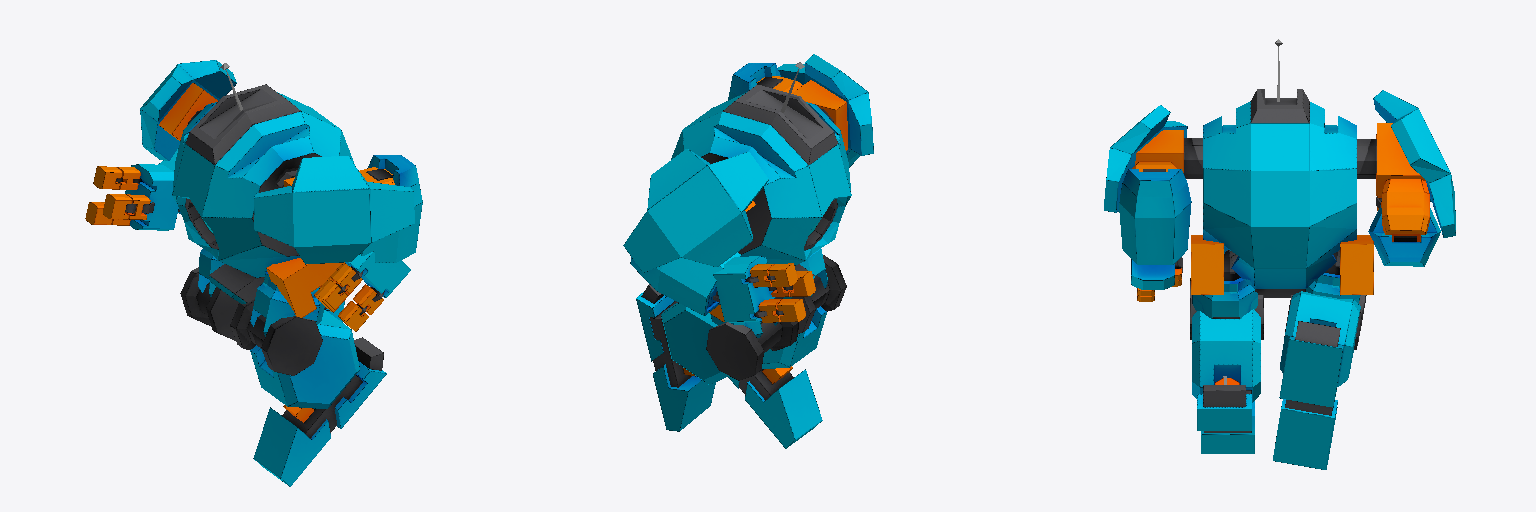
3 renders of one model, left to right at view 1: azimuth 30°, elevation 25°; view 2: azimuth 150°, elevation 25°; view 3: azimuth 270°, elevation 25°, orthographic.
Visible parts, largest first — view 1: Plane001, Object006, Object013, Object014, Object002, Object004, Object008, Object007, Object010, Object012, Object009; view 2: Plane001, Object002, Object010, Object004, Object006, Object011, Object014, Object013, Object003, Object007; view 3: Plane001, Object002, Object011, Object007, Object013, Object006, Object014, Object010, Object003, Object012, Object008, Object009 (+2 smaller).
Part boxes in pixels (x1,y1,x2,y2): Plane001: (172, 84, 353, 317); Object006: (254, 156, 414, 264); Object013: (230, 299, 359, 408); Object014: (253, 337, 386, 486); Object002: (140, 60, 236, 160); Object004: (85, 164, 179, 230); Object008: (314, 251, 410, 331); Object007: (361, 155, 422, 262); Object010: (180, 267, 238, 340); Object012: (250, 272, 324, 336); Object009: (198, 249, 223, 296); Plane001: (671, 84, 851, 321); Object002: (623, 149, 768, 272); Object010: (661, 303, 798, 384); Object004: (713, 256, 815, 322); Object006: (757, 54, 873, 167); Object011: (636, 284, 715, 431); Object014: (728, 366, 822, 448); Object013: (762, 255, 846, 368); Object003: (630, 252, 740, 315); Object007: (728, 63, 782, 100); Plane001: (1191, 89, 1373, 297); Object002: (1373, 90, 1455, 241); Object011: (1273, 321, 1343, 469); Object007: (1119, 169, 1191, 264); Object013: (1190, 278, 1263, 402); Object006: (1104, 105, 1187, 212); Object014: (1197, 378, 1254, 453); Object010: (1280, 291, 1366, 386); Object003: (1368, 205, 1440, 266); Object012: (1192, 250, 1257, 318); Object008: (1131, 257, 1182, 301); Object009: (1294, 250, 1360, 304).
Size of the model in its own units: 120 by 228 by 182.
1 materials, 1 textured.